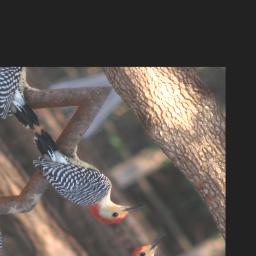Woodpecker: (18, 109, 149, 242)
